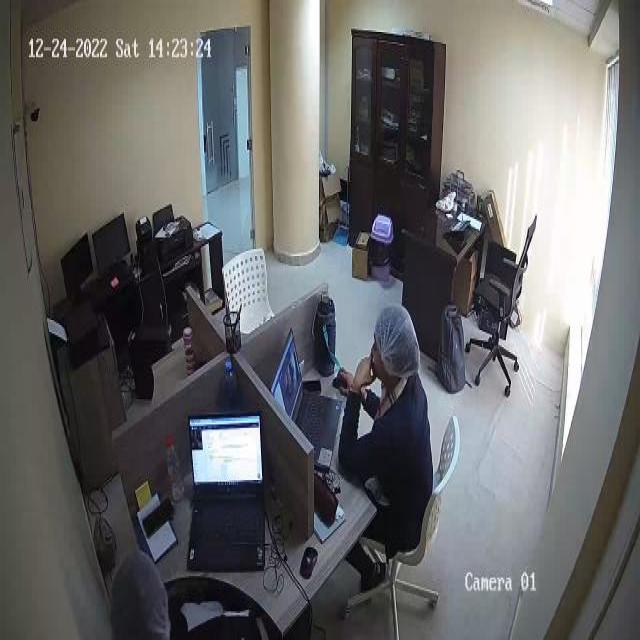hairnet: (113, 554, 168, 640), (377, 306, 419, 374)
